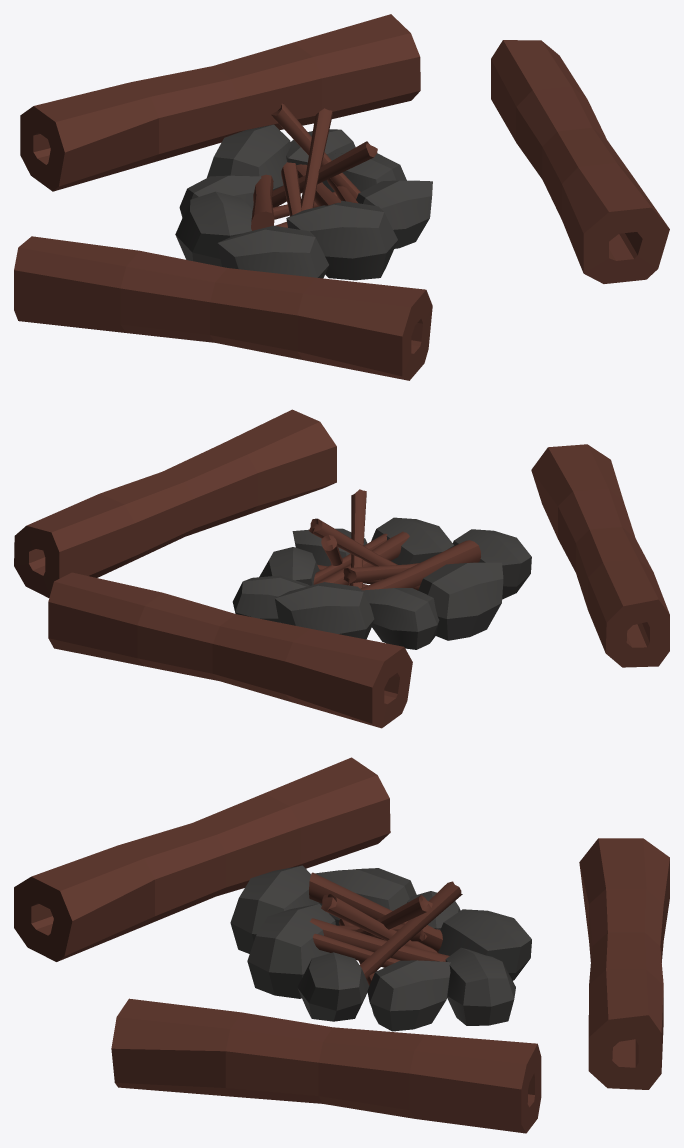
File: Fogata.fbx
The picture shows the model from 3 angles, top to bottom: view 1: azimuth 30°, elevation 25°; view 2: azimuth 150°, elevation 25°; view 3: azimuth 270°, elevation 25°; orthographic projection. The views are drawn at different scales.
Parts seen in each view (by area): view 1: Fogata; view 2: Fogata; view 3: Fogata.
Part boxes in pixels (bbox=[...]): Fogata: bbox=[14, 14, 669, 380]; Fogata: bbox=[14, 409, 669, 728]; Fogata: bbox=[14, 757, 669, 1133].
Size of the model in its own units: 424 by 66.93 by 373.
